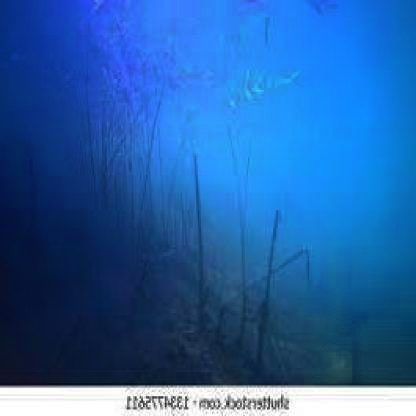misc: (58, 103, 157, 241)
